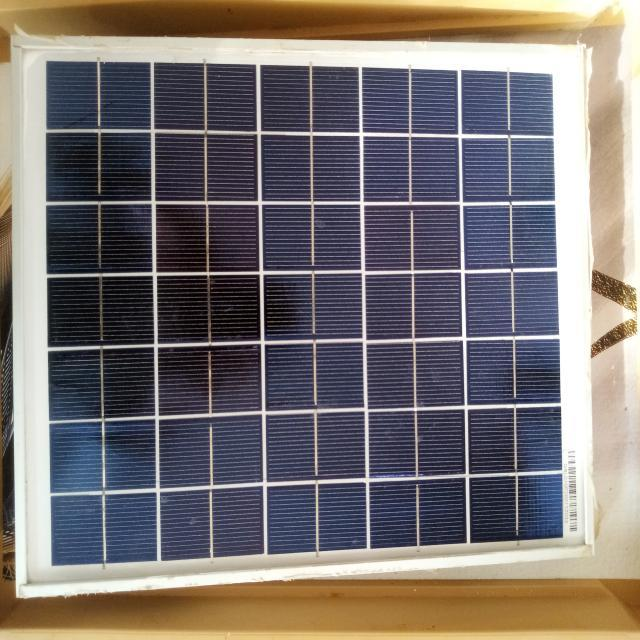no faulty: (14, 45, 588, 591)
